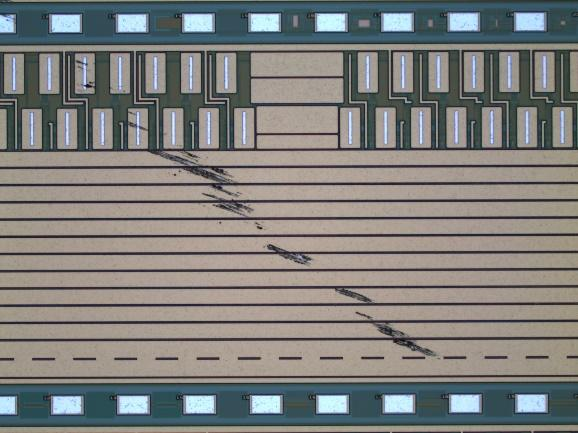SCRATCH: (70, 55, 442, 363)
